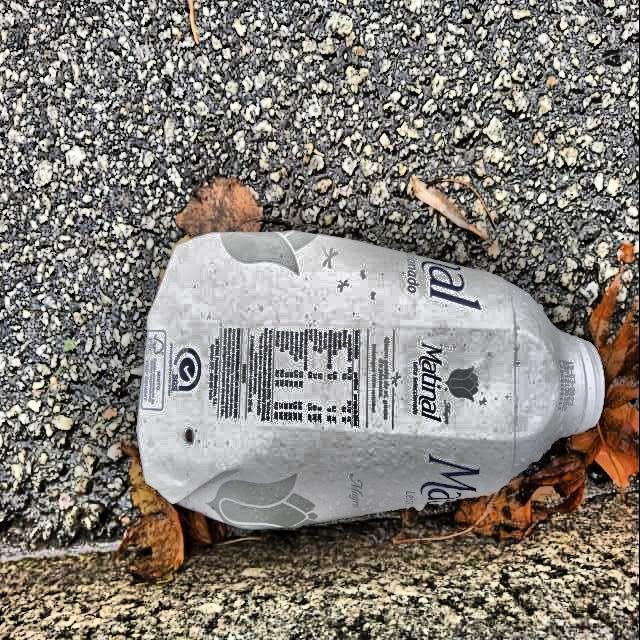plastic: (137, 231, 604, 529)
